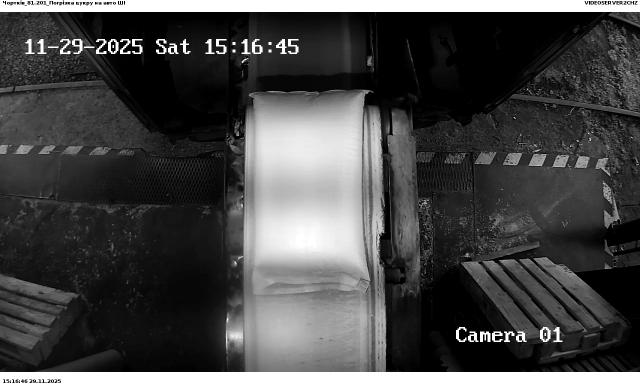bag: (250, 90, 371, 298)
